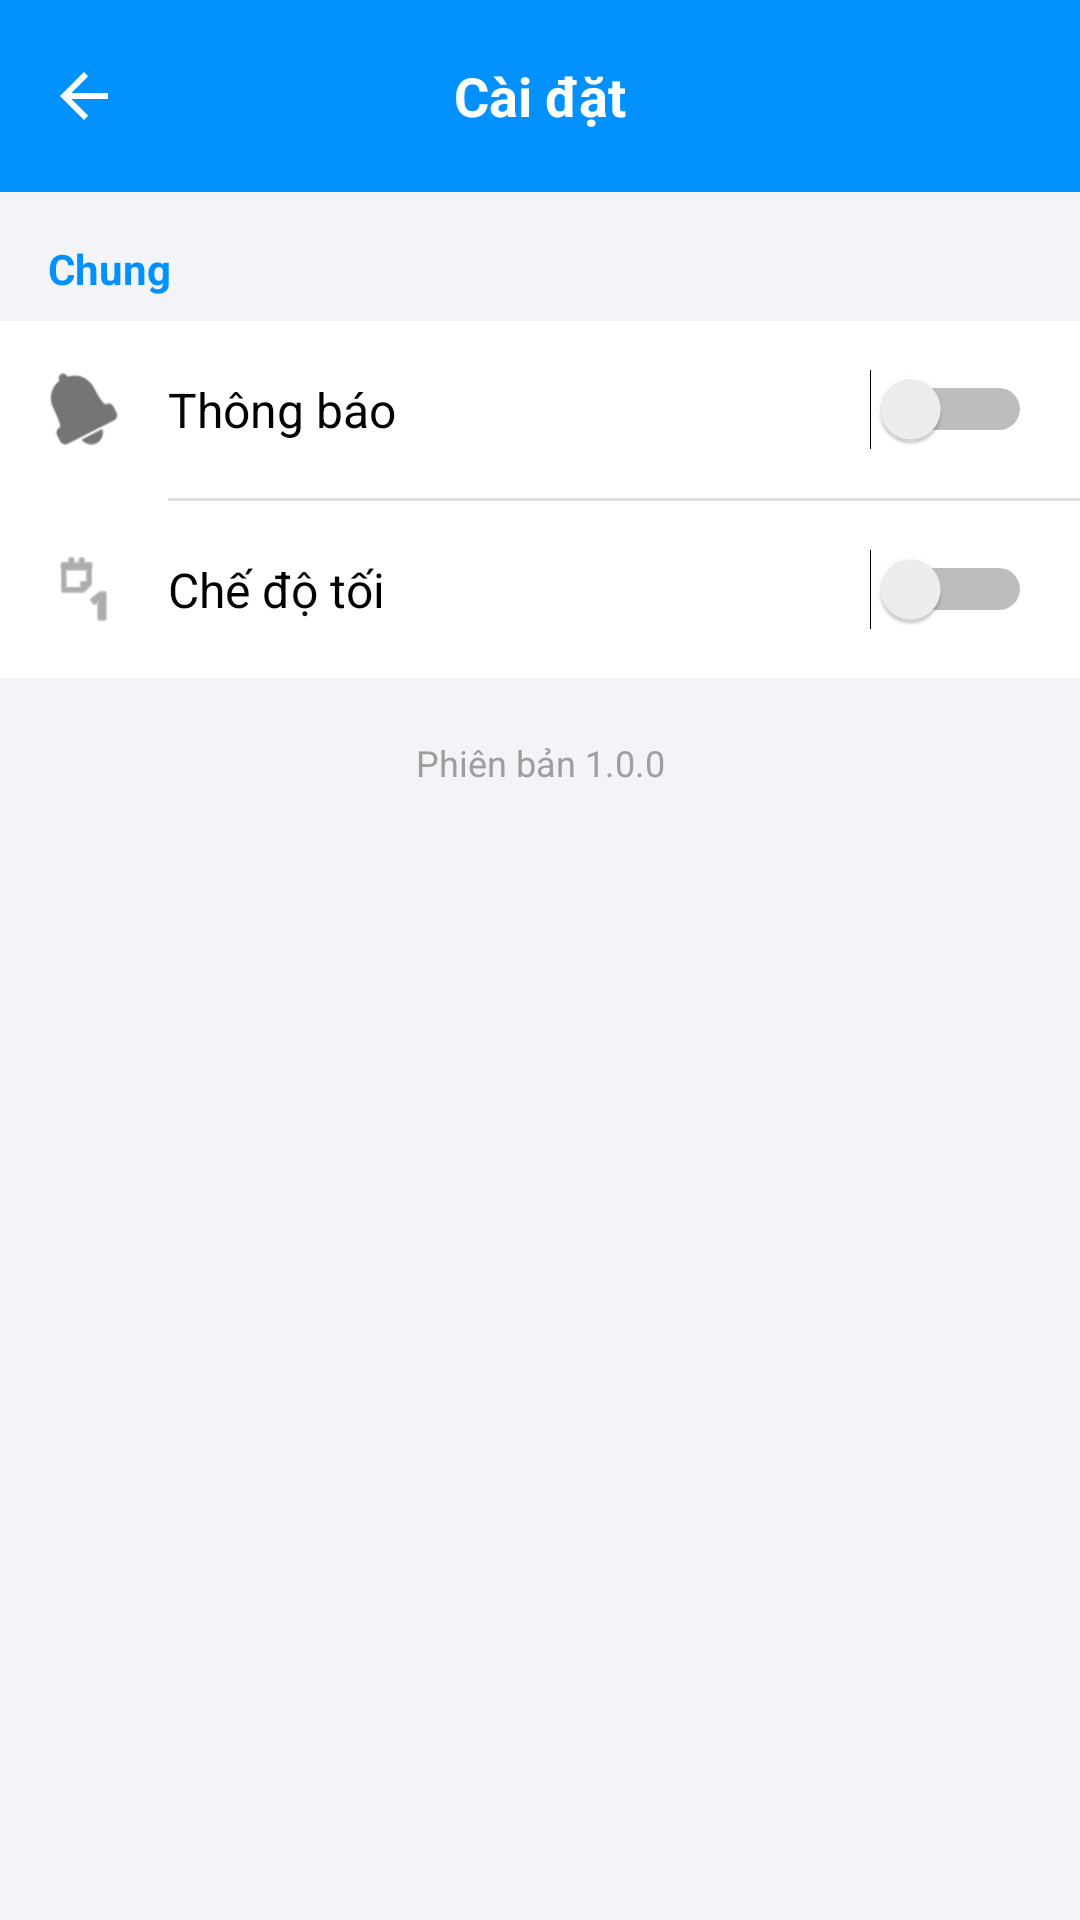

Point at icon controls on the screen. Image size 1080px x 1920px, points as [x,y].
ab back: [84,96]
day: [83,589]
popup reminder: [84,409]
